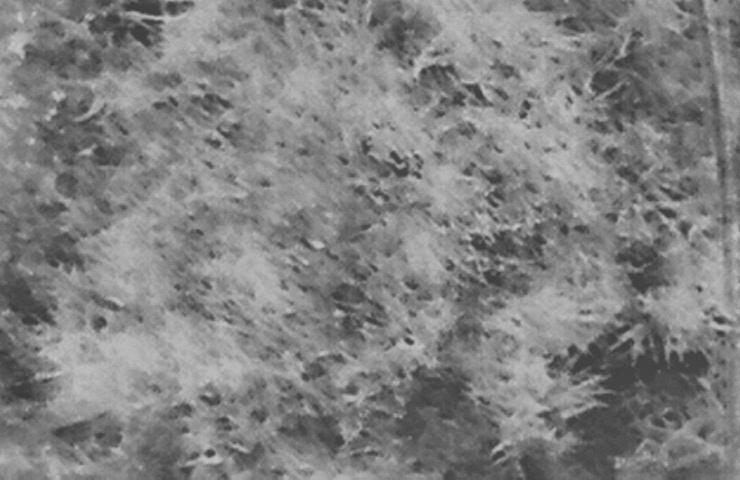landmines: (258, 186, 340, 268)
